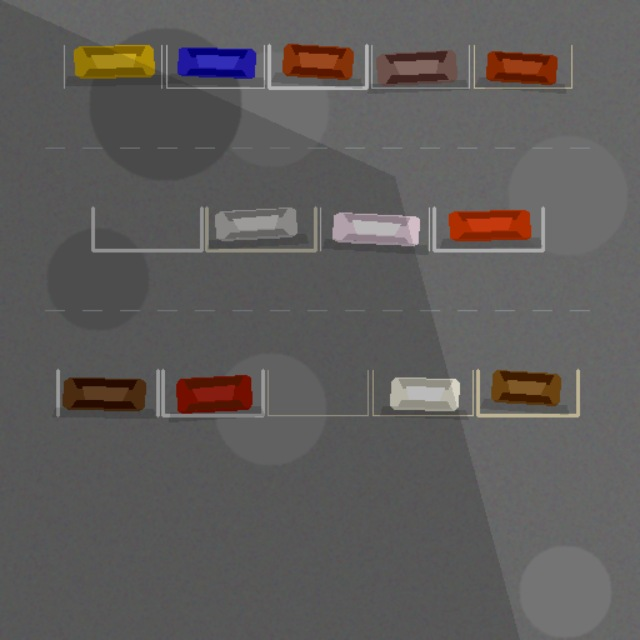space-empty: (92, 208, 201, 250), (268, 370, 368, 415)
space-occupied: (206, 208, 315, 250), (320, 208, 429, 250), (434, 208, 542, 250), (58, 370, 158, 415), (162, 370, 262, 415), (372, 370, 472, 415), (478, 370, 578, 415), (166, 45, 264, 88), (371, 45, 469, 88), (64, 45, 161, 88), (269, 45, 366, 88), (474, 45, 571, 88)
